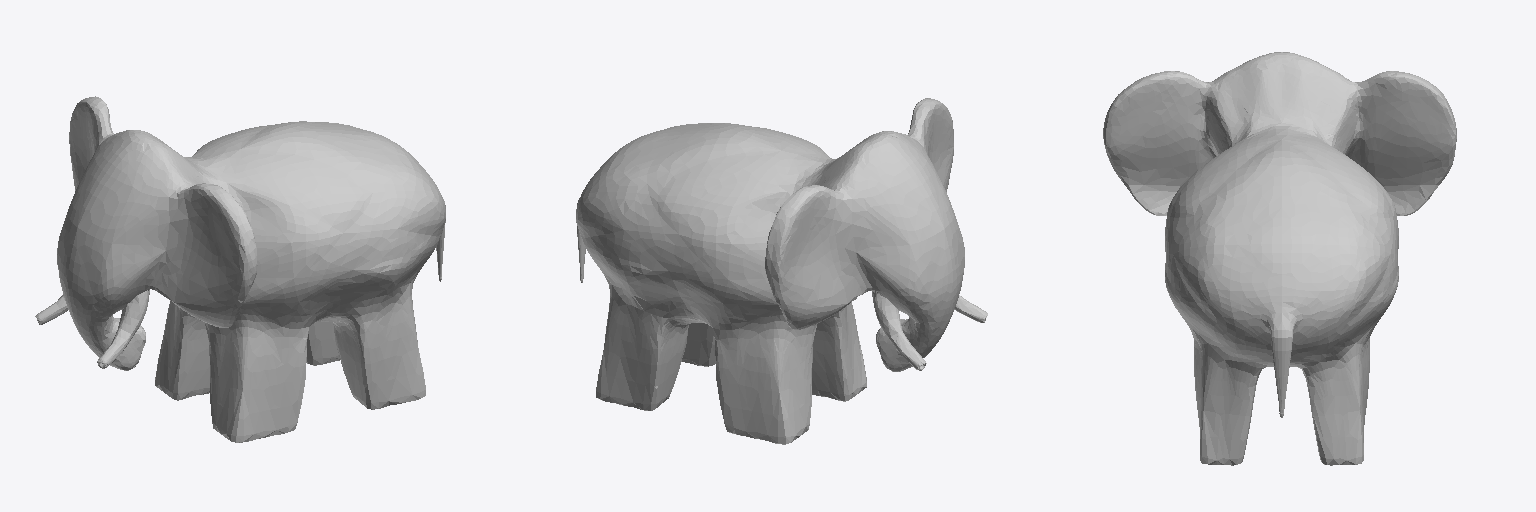
Rendered from elephant.obj.
3 renders of one model, left to right at view 1: azimuth 30°, elevation 25°; view 2: azimuth 150°, elevation 25°; view 3: azimuth 270°, elevation 25°, orthographic.
Bounding box in the file's own units: 100 × 74.51 × 81.47.